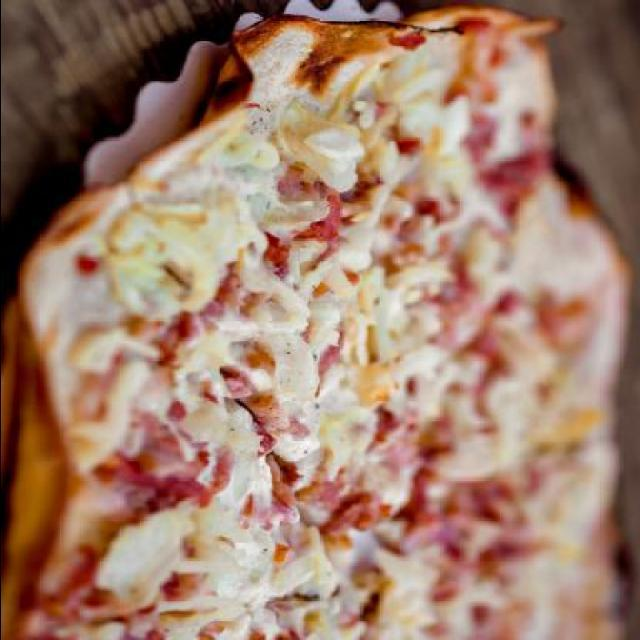Pizza: (3, 6, 632, 640)
